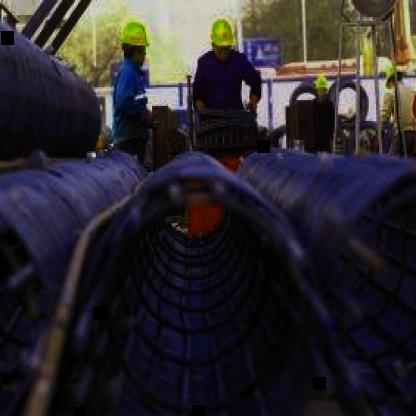helmet: (119, 13, 149, 66), (208, 10, 236, 62), (385, 62, 407, 88), (313, 72, 332, 100)
